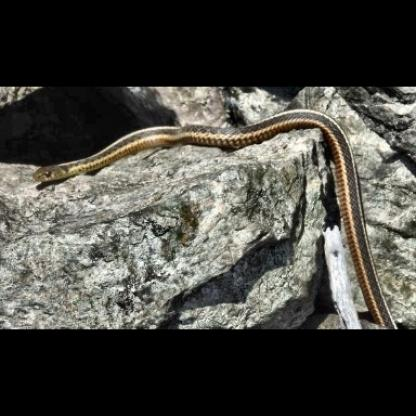Snake: (31, 110, 394, 184)
